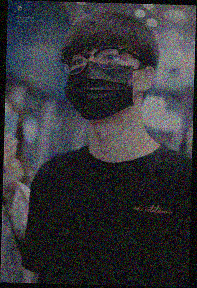with_mask: (64, 40, 147, 121)
